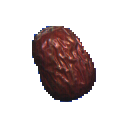gd: (15, 18, 125, 121)
